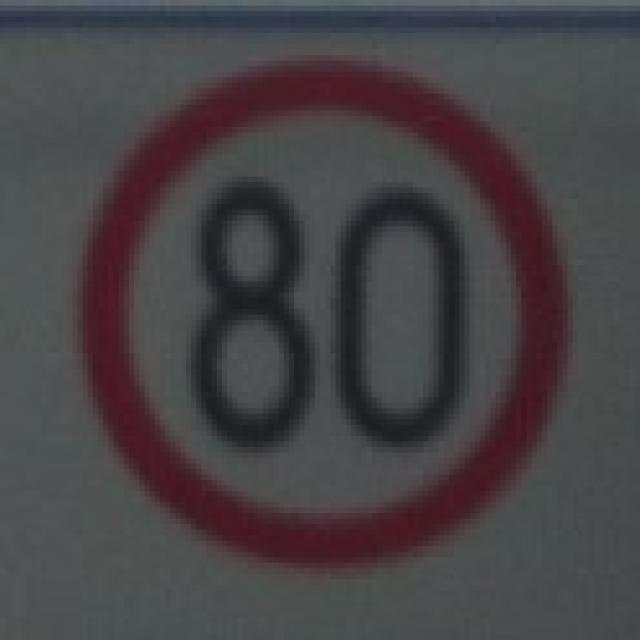Speed Limit -80-: (178, 176, 472, 464)
